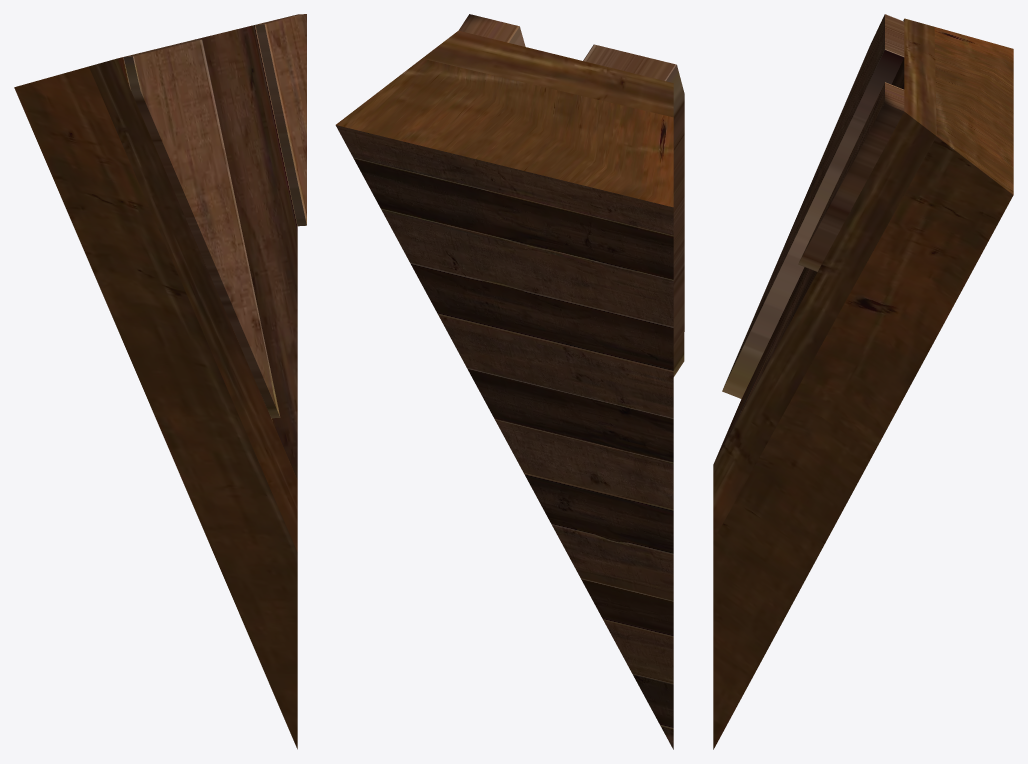
3 views of the same model, side by side, from view 1: azimuth 30°, elevation 25°; view 2: azimuth 150°, elevation 25°; view 3: azimuth 270°, elevation 25° (orthographic). The views are drawn at different scales.
Visible parts, largest first — view 1: SM_BB_T2_Roof_Triangle_Steep_Med_LOD0; view 2: SM_BB_T2_Roof_Triangle_Steep_Med_LOD0; view 3: SM_BB_T2_Roof_Triangle_Steep_Med_LOD0.
Part boxes in pixels (<box>): SM_BB_T2_Roof_Triangle_Steep_Med_LOD0: <box>14,14,306,749</box>; SM_BB_T2_Roof_Triangle_Steep_Med_LOD0: <box>335,14,684,749</box>; SM_BB_T2_Roof_Triangle_Steep_Med_LOD0: <box>713,14,1013,749</box>.
Size of the model in its own units: 0.8247 by 1.82 by 0.7143.
2 materials, 2 textured.
